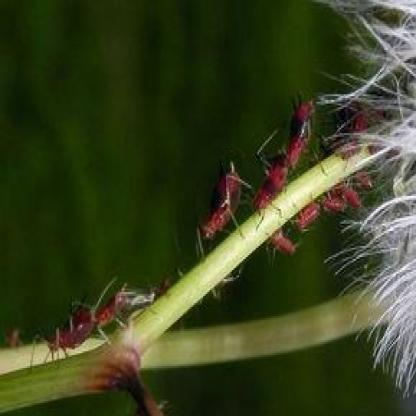aphid: (30, 297, 97, 378), (199, 157, 255, 246), (247, 150, 294, 229), (282, 91, 324, 171), (90, 277, 141, 332), (264, 220, 302, 262), (348, 102, 381, 150), (291, 196, 323, 236), (320, 186, 350, 221), (338, 176, 368, 210)
